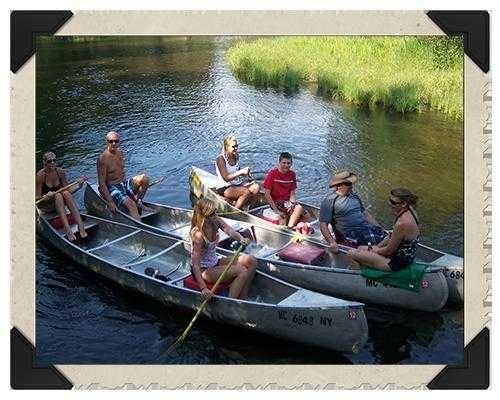kayak: (34, 177, 368, 356), (186, 166, 463, 313)
